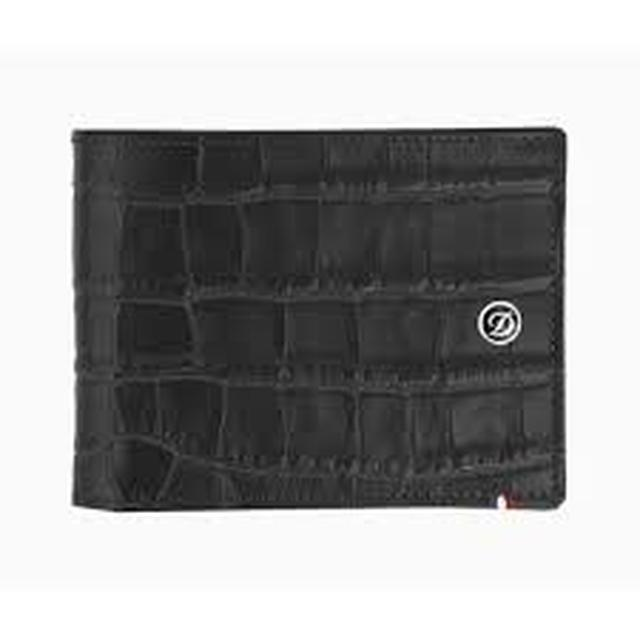wallet: (50, 123, 587, 530)
